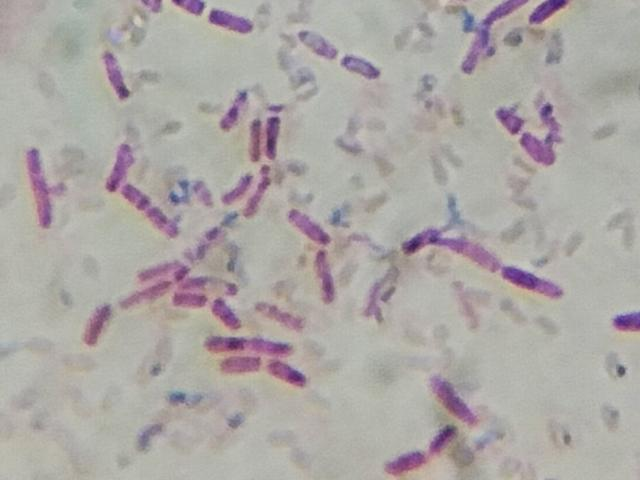E. coli: (22, 145, 63, 231), (123, 183, 179, 241), (431, 370, 486, 422), (505, 265, 570, 307), (206, 325, 290, 352), (303, 245, 339, 305), (433, 236, 494, 271), (99, 39, 131, 102), (235, 173, 277, 216), (288, 200, 330, 240), (82, 302, 118, 346), (459, 26, 488, 80), (530, 0, 569, 39), (212, 6, 256, 39), (261, 109, 286, 163), (256, 295, 301, 325), (219, 89, 247, 136), (299, 27, 337, 61), (242, 116, 266, 168), (386, 445, 425, 477), (105, 137, 132, 183), (135, 255, 191, 277), (612, 297, 640, 341), (424, 420, 465, 450), (339, 52, 381, 81), (522, 130, 554, 168), (266, 355, 303, 386), (179, 273, 235, 293), (405, 220, 435, 255), (219, 170, 250, 203), (216, 353, 261, 375), (126, 279, 169, 302), (212, 296, 241, 326), (172, 0, 209, 23), (489, 2, 522, 26), (168, 287, 204, 307), (496, 102, 522, 129)
